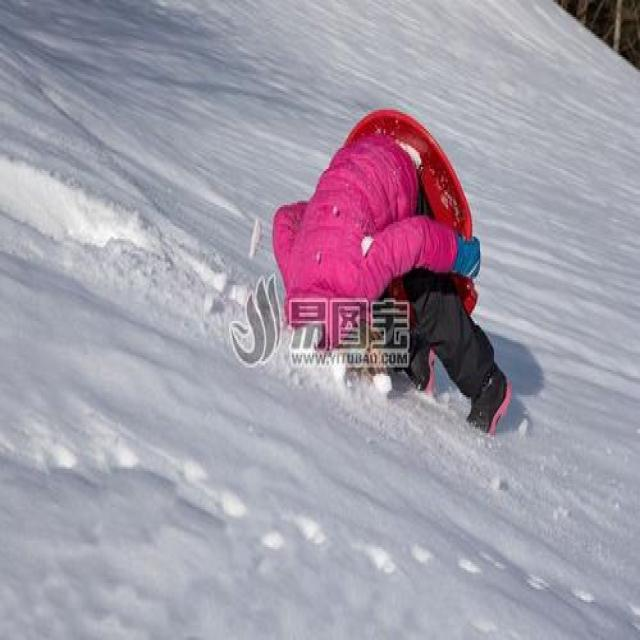fall: (274, 99, 512, 418)
